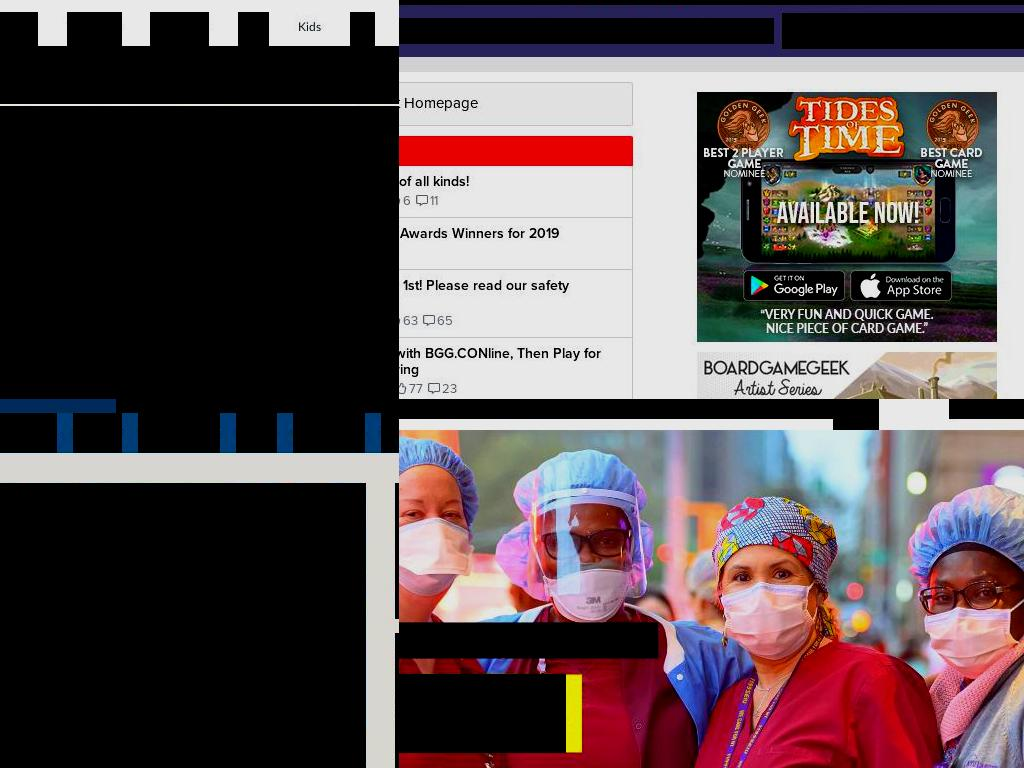button: (0, 106, 399, 399), (0, 46, 399, 104), (138, 413, 220, 453), (684, 399, 834, 419), (293, 413, 365, 453), (543, 399, 685, 419), (682, 18, 774, 44), (486, 18, 577, 44), (116, 399, 285, 413), (0, 413, 57, 453), (150, 12, 209, 46), (73, 413, 122, 453), (446, 399, 544, 419), (67, 12, 122, 46), (422, 18, 486, 44), (236, 413, 277, 453), (285, 399, 399, 413), (949, 399, 1024, 419), (833, 399, 879, 430), (628, 18, 682, 44), (577, 18, 628, 44), (0, 12, 38, 46), (238, 12, 269, 46), (399, 399, 447, 419), (350, 12, 375, 46), (786, 16, 811, 49), (297, 12, 321, 46), (381, 413, 399, 453), (399, 18, 422, 44)
field: (782, 13, 1024, 49)
heading: (399, 674, 566, 753), (399, 345, 601, 378), (399, 277, 569, 310), (399, 630, 650, 651), (399, 225, 559, 242), (399, 173, 469, 190)
iframe: (696, 92, 997, 342)
image: (0, 483, 366, 768), (415, 194, 428, 207), (422, 314, 435, 327), (427, 382, 440, 395), (399, 382, 407, 395)
link: (399, 93, 478, 112), (177, 196, 251, 212), (6, 392, 106, 399)
text: (0, 227, 310, 372), (0, 47, 399, 103), (0, 196, 177, 212), (492, 22, 563, 38), (428, 22, 472, 38), (583, 22, 614, 38), (402, 313, 421, 329), (408, 381, 426, 397), (436, 313, 453, 329), (441, 381, 457, 397), (402, 193, 414, 209), (429, 193, 438, 209)
